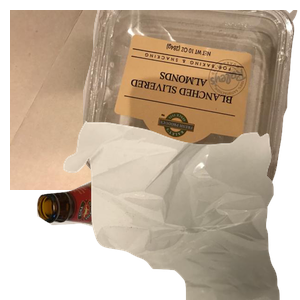cardboard: (10, 10, 250, 190)
glass: (34, 170, 223, 300)
plastic: (83, 10, 300, 190)
trash: (61, 120, 300, 300)
